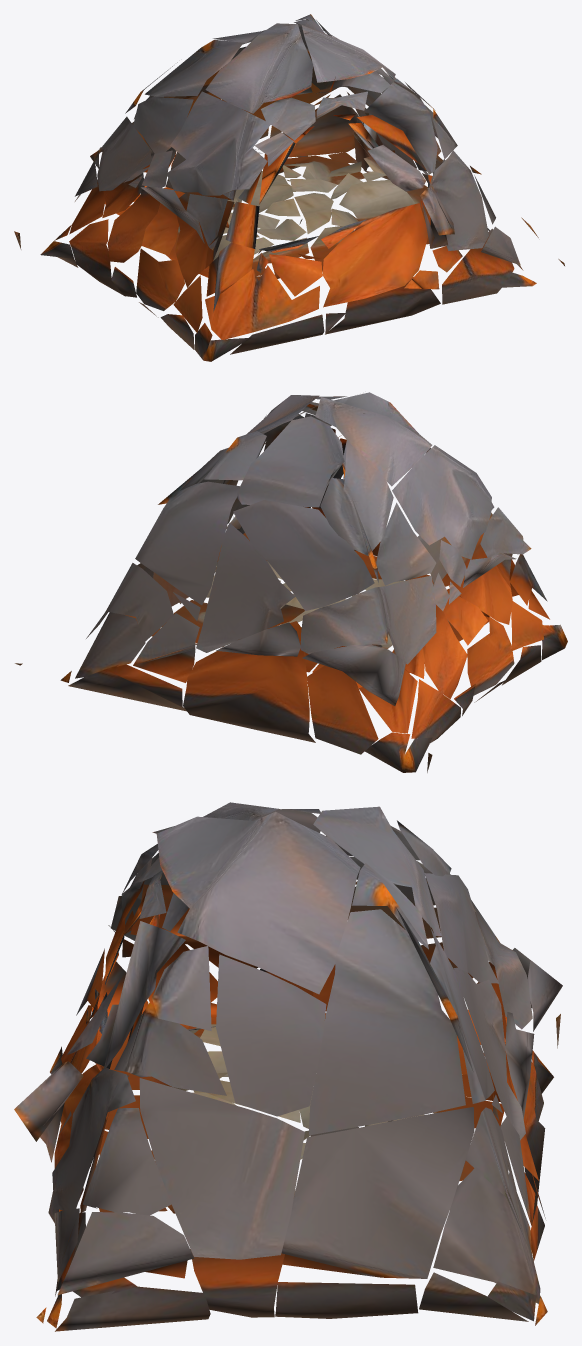
File: dometent.glb
The picture shows the model from 3 angles, top to bottom: view 1: azimuth 30°, elevation 25°; view 2: azimuth 150°, elevation 25°; view 3: azimuth 270°, elevation 25°; orthographic projection. The views are drawn at different scales.
Visible parts, largest first — view 1: tripo_node_52dcfa1f-4d31-490d-8834-a94680018032; view 2: tripo_node_52dcfa1f-4d31-490d-8834-a94680018032; view 3: tripo_node_52dcfa1f-4d31-490d-8834-a94680018032.
Part boxes in pixels (bbox=[...]): tripo_node_52dcfa1f-4d31-490d-8834-a94680018032: bbox=[14, 14, 564, 361]; tripo_node_52dcfa1f-4d31-490d-8834-a94680018032: bbox=[15, 392, 567, 772]; tripo_node_52dcfa1f-4d31-490d-8834-a94680018032: bbox=[14, 802, 562, 1331].
Size of the model in its own units: 1.96 by 1.21 by 1.52.
Materials: 1 (1 with a texture image).
